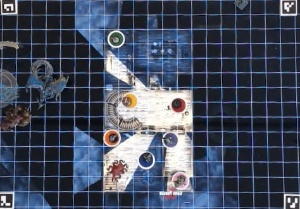blue: (137, 147, 156, 168)
green: (106, 29, 127, 48)
orange: (101, 126, 124, 149)
pink: (170, 169, 191, 189)
red: (169, 97, 186, 113)
violet: (161, 129, 179, 149)
yellow: (120, 91, 139, 108)
